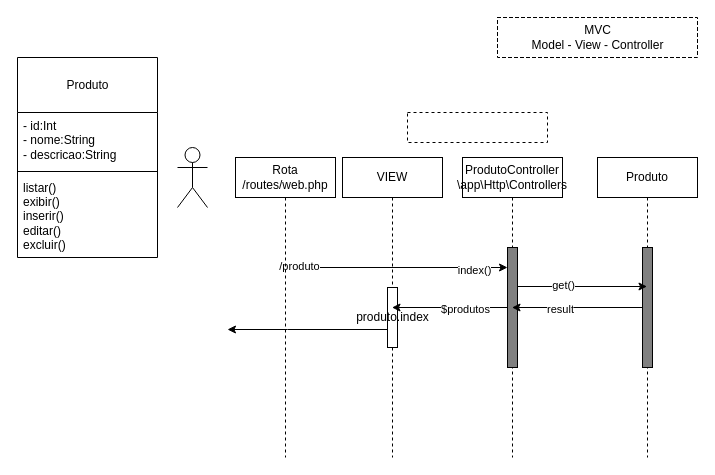
The diagram is 715 pixels wide and 475 high, and some of its shapes have lost their labels. Each missing label, with the centre of its shape:
Actor: (x=192, y=177)
Listar: (x=477, y=127)
